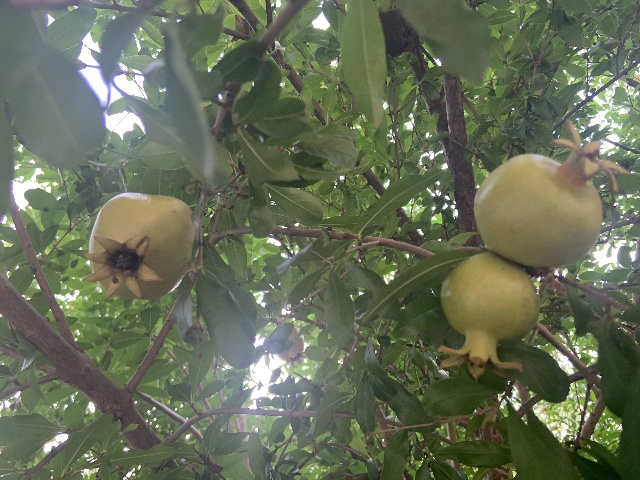mid-growth: (473, 119, 633, 268), (436, 251, 540, 380), (80, 192, 195, 300)
